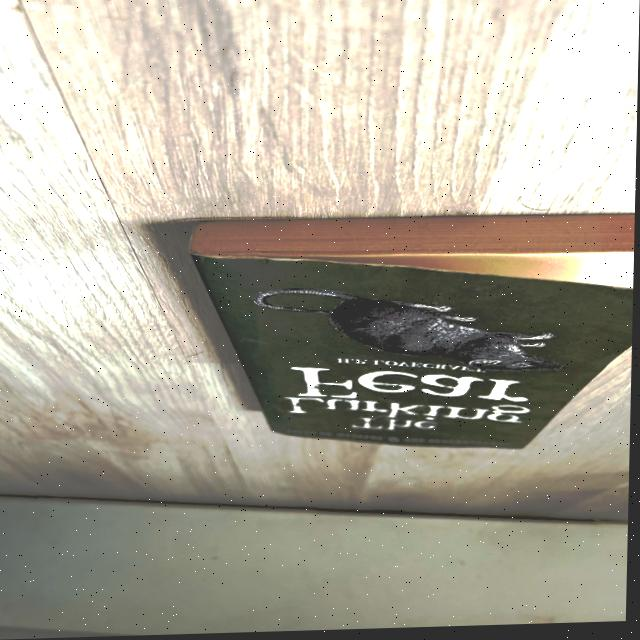Book: (191, 218, 635, 451)
